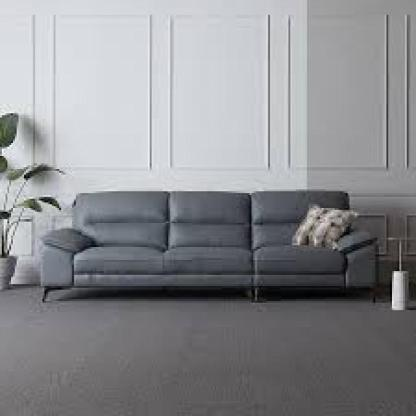Sofa: (30, 174, 392, 330)
